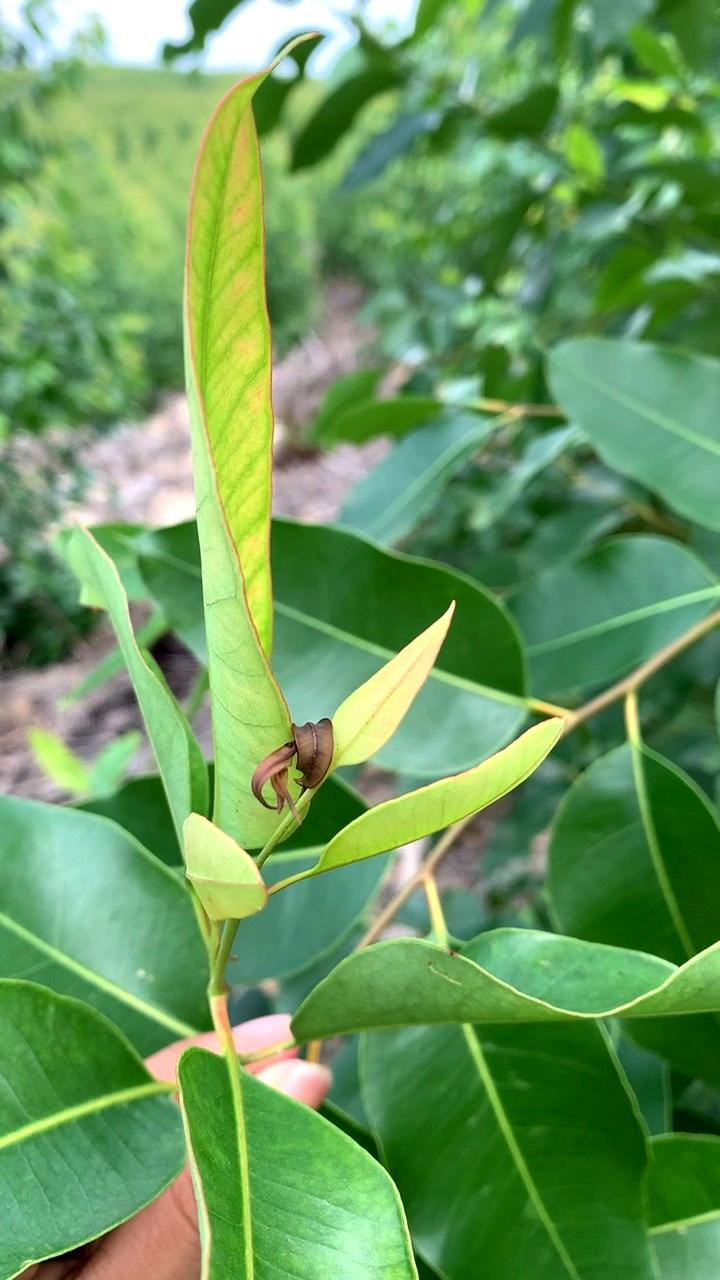Helopeltis-Withered Sprout: (233, 696, 358, 837)
